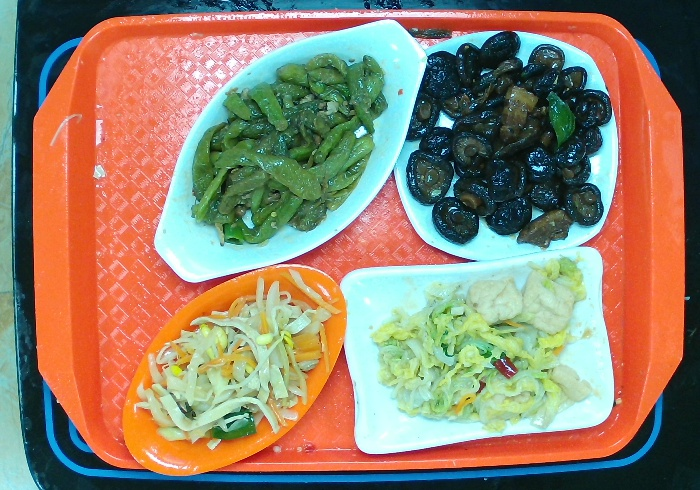RJxy-Ju_Huang_Tuo_Yuan: (106, 260, 355, 480)
RJxy-Si_Fang_Ao_Bian_Wan: (332, 241, 619, 460)
RJxy-Si_Fang_Die: (391, 28, 622, 264)
RJxy-Yu_Pan: (152, 15, 429, 290)
